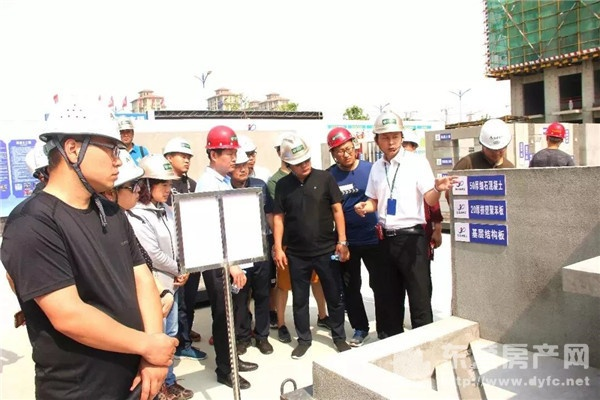red: (203, 123, 239, 174), (324, 125, 359, 168), (543, 122, 565, 148)
white: (39, 97, 124, 199), (105, 147, 144, 211), (136, 151, 176, 203), (474, 117, 513, 162), (277, 133, 313, 177), (373, 110, 404, 156), (164, 138, 194, 175), (228, 147, 249, 183), (116, 116, 136, 148), (239, 138, 257, 167)
